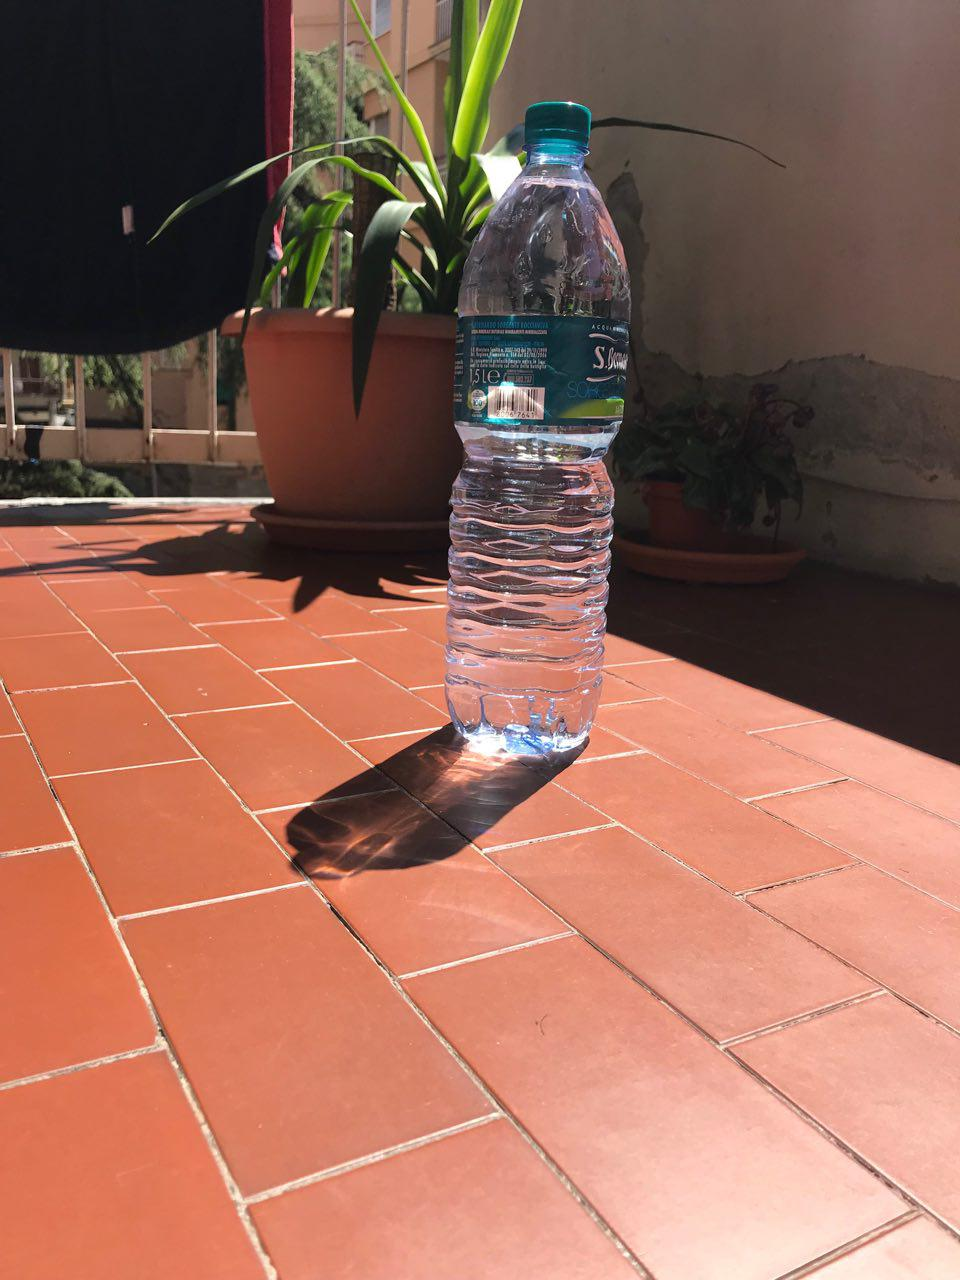san_bernardo: (443, 98, 631, 755)
